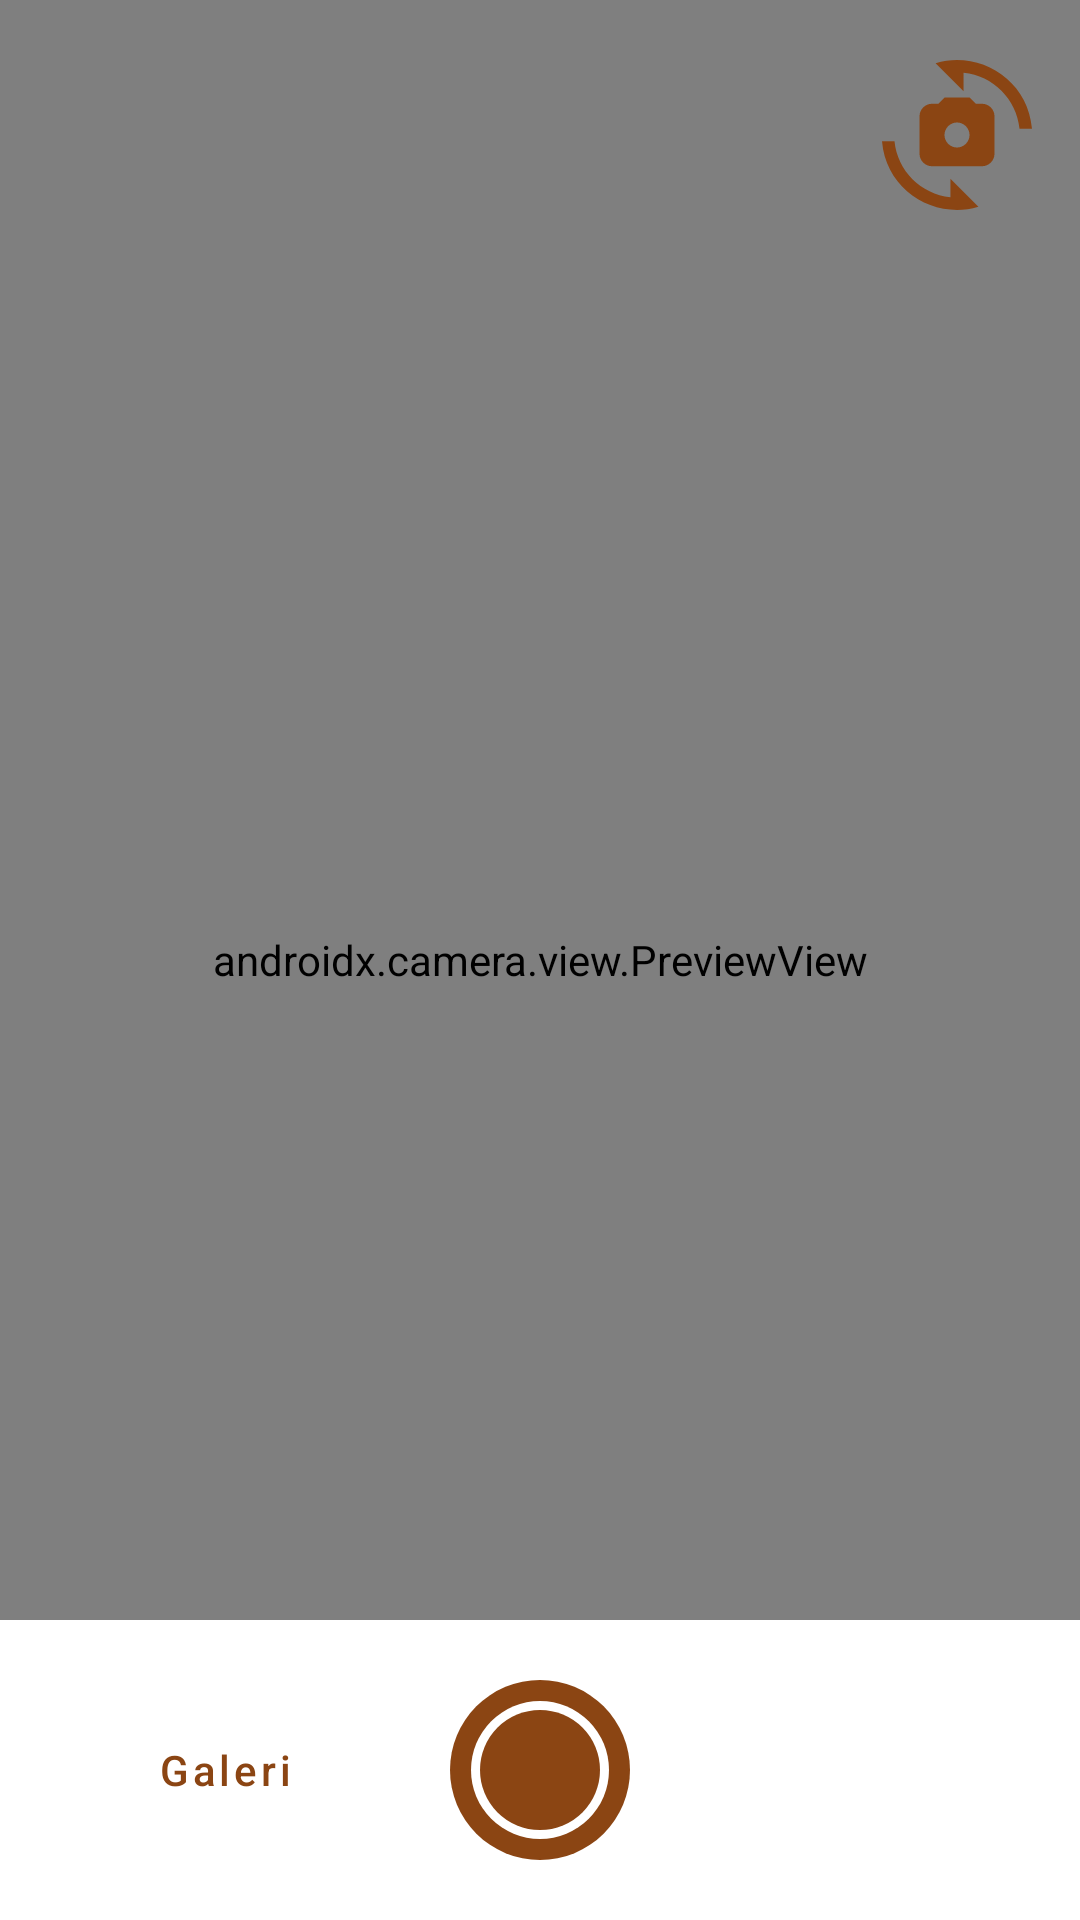

Named icons in this screenshot (1080×1920) and their bounding boxes, (x1, y1, x2, y2):
cameraswitch: (882, 60, 1032, 210)
